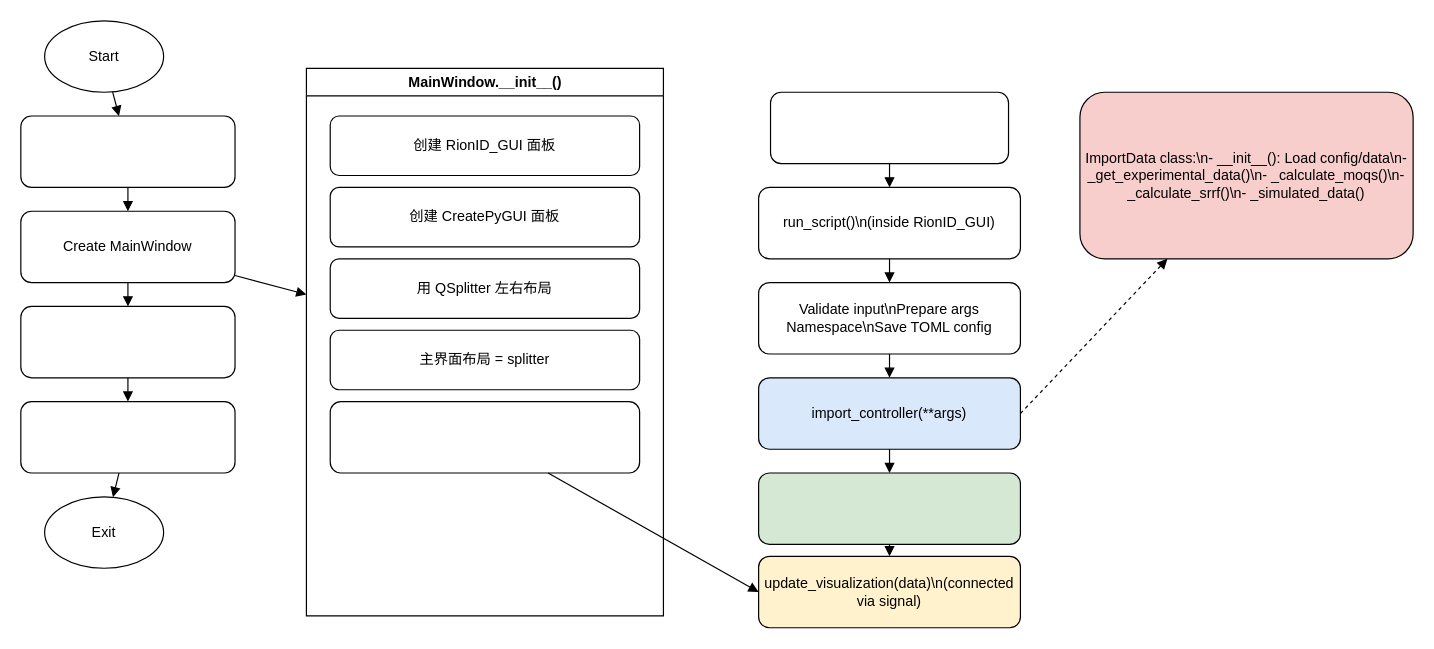
Some shapes in this 1434 by 649 pixel diagram are drawn without their labels. Here are the shapes that lost their labels. From the top down, the centre of each, then its label:
At (889,127): "User clicks 'Run' button".
At (127,151): "Initialize QApplication".
At (127,341): "Show MainWindow".
At (127,436): "Enter Qt Loop (app.exec_())".
At (484,436): "连接信号：visualization_signal → update_visualization()".
At (888,508): "emit visualization_signal(data)".
